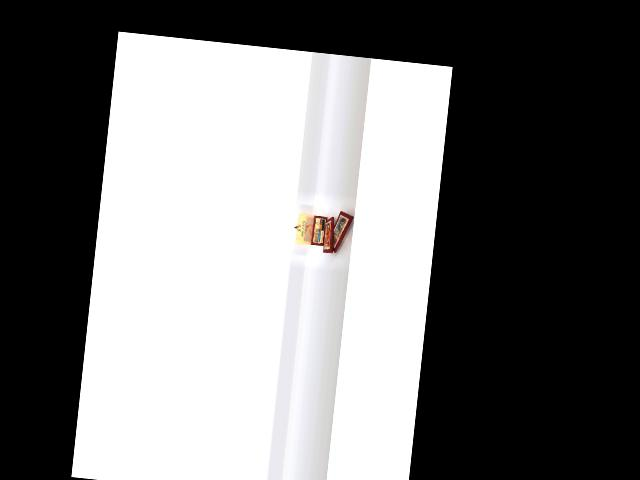chocolate: (328, 201, 358, 256)
